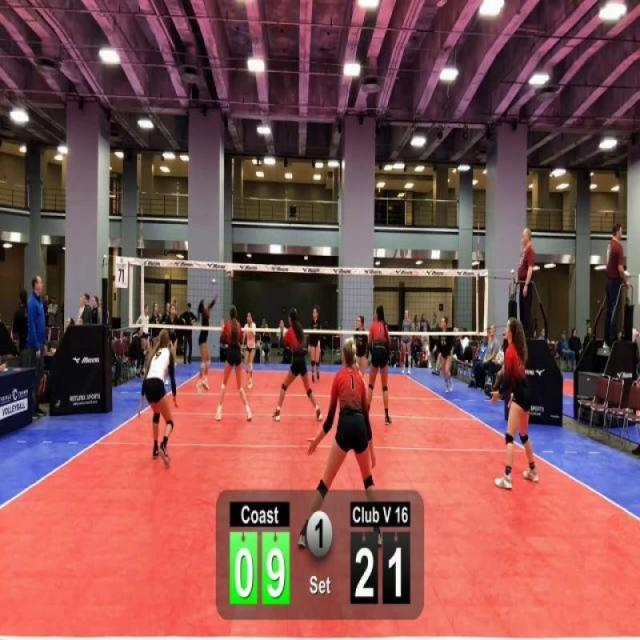volleyball: (224, 266, 236, 281)
